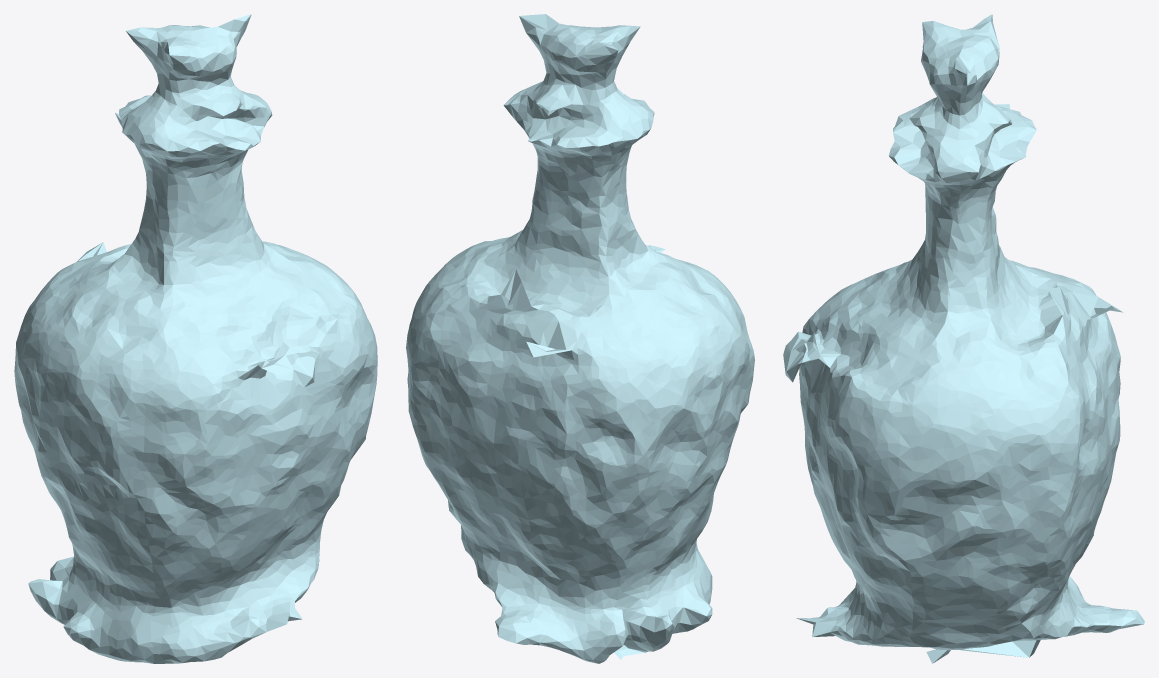
The model's file is porcelain-scribble.glb.
3 views of the same model, side by side, from view 1: azimuth 30°, elevation 25°; view 2: azimuth 150°, elevation 25°; view 3: azimuth 270°, elevation 25° (orthographic). The views are drawn at different scales.
Parts seen in each view (by area): view 1: extracted_mesh; view 2: extracted_mesh; view 3: extracted_mesh.
Boxes of the visible parts, x1,y1,x2,y2 form: extracted_mesh: (14, 14, 377, 663); extracted_mesh: (406, 14, 754, 663); extracted_mesh: (783, 14, 1144, 663).
Size of the model in its own units: 0.55 by 1.05 by 0.5375.
Materials: 1 (1 with a texture image).
